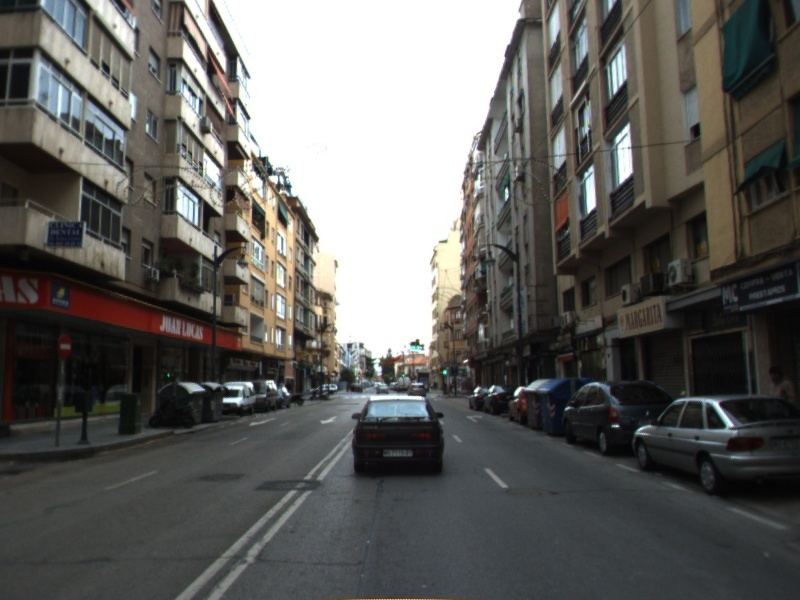RIGHT: (464, 413, 484, 424)
